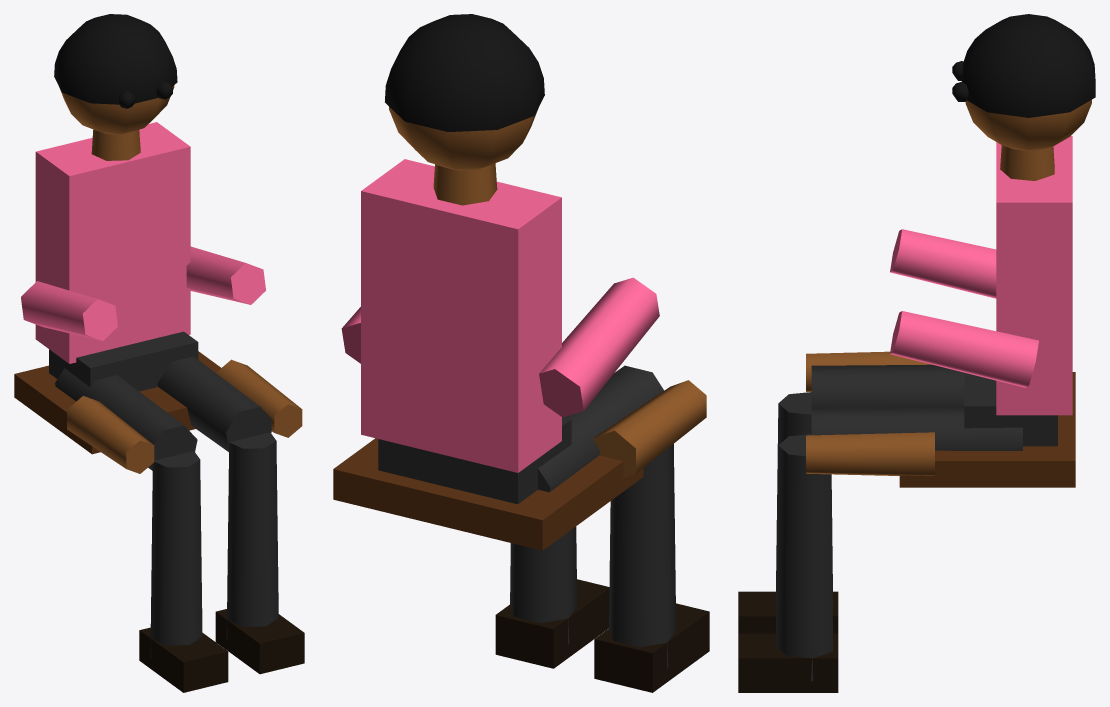
Rendered from crowd-seated-22.glb.
3 views of the same model, side by side, from view 1: azimuth 30°, elevation 25°; view 2: azimuth 150°, elevation 25°; view 3: azimuth 270°, elevation 25° (orthographic). The views are drawn at different scales.
Visible parts, largest first — view 1: Torso, Left Shin, Right Shin, Hair Cap, Right Thigh, Left Thigh, Hips, Left Upper Arm, Left Shoe, Right Shoe, Left Lower Arm, Bench Seat (+4 smaller); view 2: Torso, Hair Cap, Bench Seat, Left Shin, Left Upper Arm, Hips, Left Shoe, Right Shoe, Left Lower Arm, Right Shin, Left Thigh, Head (+2 smaller); view 3: Torso, Right Shin, Hair Cap, Right Upper Arm, Bench Seat, Left Thigh, Right Thigh, Right Lower Arm, Left Upper Arm, Right Shoe, Head, Hips (+4 smaller).
Boxes of the visible parts, bbox=[...] form: Torso: bbox=[35, 122, 190, 363]; Left Shin: bbox=[150, 451, 202, 658]; Right Shin: bbox=[226, 432, 278, 639]; Hair Cap: bbox=[54, 14, 177, 104]; Right Thigh: bbox=[157, 356, 271, 451]; Left Thigh: bbox=[55, 368, 197, 470]; Hips: bbox=[49, 331, 198, 391]; Left Upper Arm: bbox=[21, 281, 117, 340]; Left Shoe: bbox=[139, 627, 228, 692]; Right Shoe: bbox=[215, 609, 304, 674]; Left Lower Arm: bbox=[67, 396, 154, 473]; Bench Seat: bbox=[14, 351, 220, 454]; Torso: bbox=[361, 159, 561, 472]; Hair Cap: bbox=[385, 14, 544, 131]; Bench Seat: bbox=[333, 438, 643, 550]; Left Shin: bbox=[609, 444, 676, 668]; Left Upper Arm: bbox=[539, 277, 659, 417]; Hips: bbox=[378, 417, 571, 504]; Left Shoe: bbox=[594, 603, 709, 692]; Right Shoe: bbox=[495, 579, 609, 668]; Left Lower Arm: bbox=[593, 380, 706, 478]; Right Shin: bbox=[510, 526, 577, 644]; Left Thigh: bbox=[538, 365, 663, 492]; Head: bbox=[389, 107, 538, 170]; Torso: bbox=[996, 136, 1072, 415]; Right Shin: bbox=[775, 434, 832, 681]; Hair Cap: bbox=[962, 14, 1095, 117]; Right Upper Arm: bbox=[890, 311, 1038, 387]; Bench Seat: bbox=[899, 372, 1075, 487]; Left Thigh: bbox=[811, 364, 964, 407]; Right Thigh: bbox=[811, 406, 1022, 450]; Right Lower Arm: bbox=[806, 432, 934, 475]; Left Upper Arm: bbox=[890, 229, 996, 298]; Right Shoe: bbox=[738, 633, 838, 692]; Head: bbox=[965, 99, 1091, 151]; Hips: bbox=[964, 372, 1057, 446].
Bounding box in the file's own units: 0.4097 × 1.2 × 0.6089.
